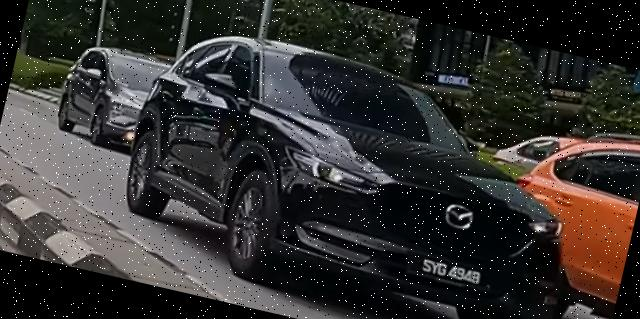License_Plate: (405, 249, 489, 291)
car: (106, 11, 604, 319)
